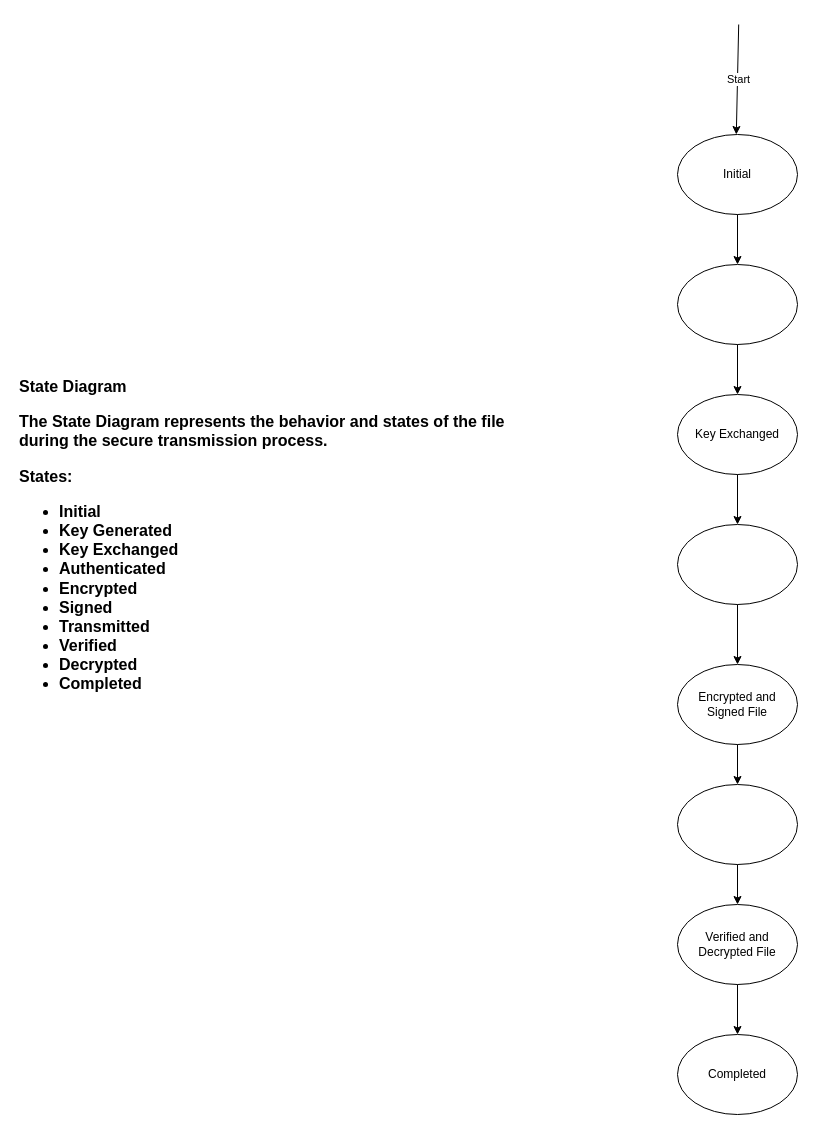
Some shapes in this 815 by 1132 pixel diagram are drawn without their labels. The centre of each missing label's shape, as x and y in pixels:
"Authenticated" belongs at (737,564).
"Key Generated" belongs at (737,304).
"Transmitted File" belongs at (737,824).
